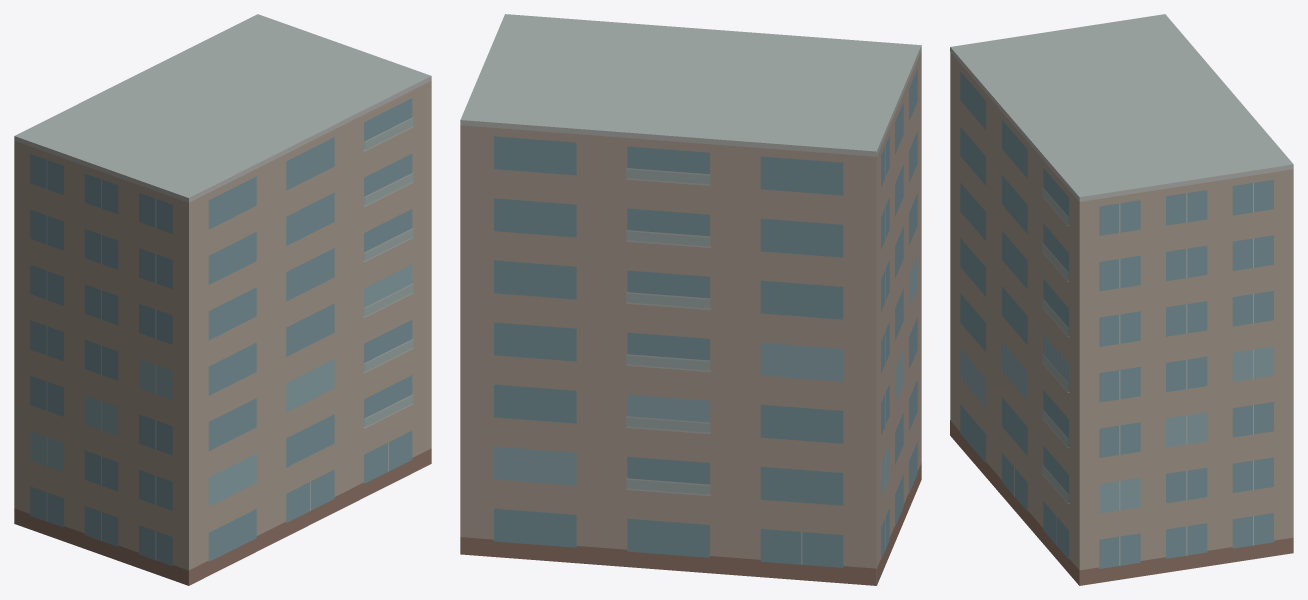
File: survey-upis-32670395.glb
3 renders of one model, left to right at view 1: azimuth 30°, elevation 25°; view 2: azimuth 150°, elevation 25°; view 3: azimuth 270°, elevation 25°, orthographic. The views are drawn at different scales.
Visible parts, largest first — view 1: survey-upis-32670395.tmp; view 2: survey-upis-32670395.tmp; view 3: survey-upis-32670395.tmp.
Boxes of the visible parts, bbox=[...] form: survey-upis-32670395.tmp: bbox=[14, 14, 431, 585]; survey-upis-32670395.tmp: bbox=[460, 14, 921, 585]; survey-upis-32670395.tmp: bbox=[950, 14, 1293, 585].
Bounding box in the file's own units: 20.38 × 20.15 × 16.15.
